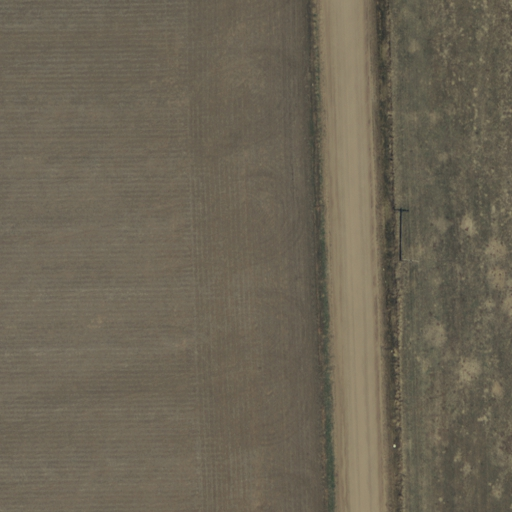DT: (392, 250, 423, 271)
